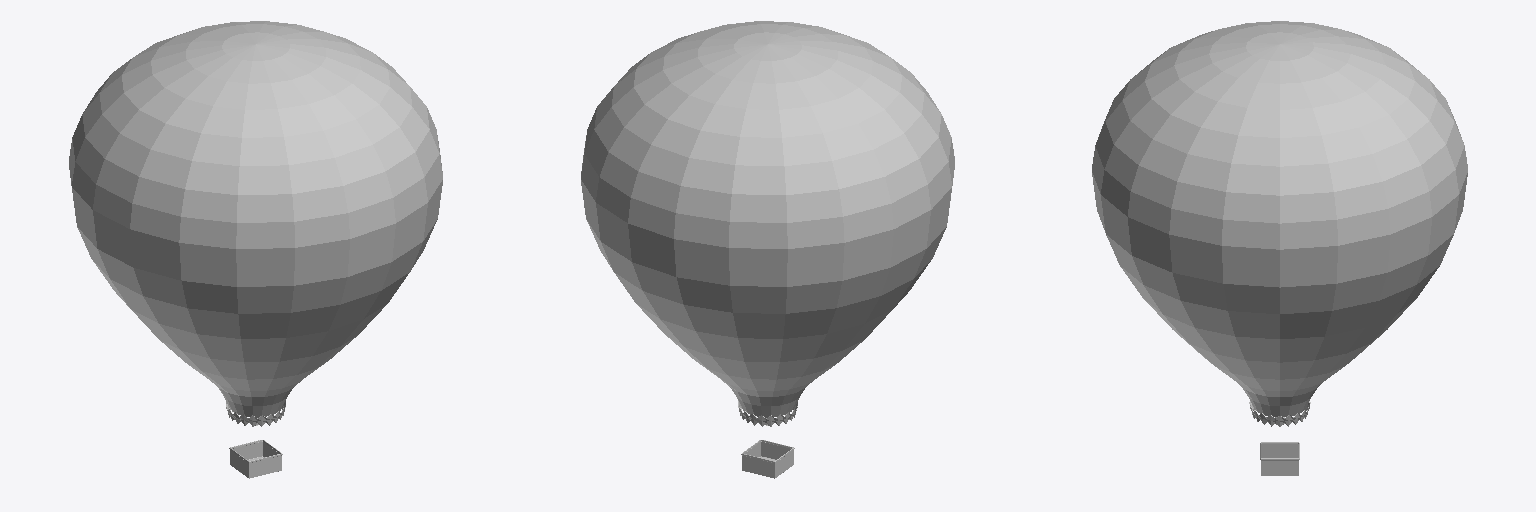
Rendered from globo.obj.
3 views of the same model, side by side, from view 1: azimuth 30°, elevation 25°; view 2: azimuth 150°, elevation 25°; view 3: azimuth 270°, elevation 25° (orthographic).
Parts seen in each view (by area): view 1: globo_completo_1; view 2: globo_completo_1; view 3: globo_completo_1.
Part boxes in pixels (bbox=[...]): globo_completo_1: bbox=[69, 21, 442, 478]; globo_completo_1: bbox=[581, 21, 954, 478]; globo_completo_1: bbox=[1092, 21, 1467, 475].
Size of the model in its own units: 2.09 by 2.59 by 2.09.